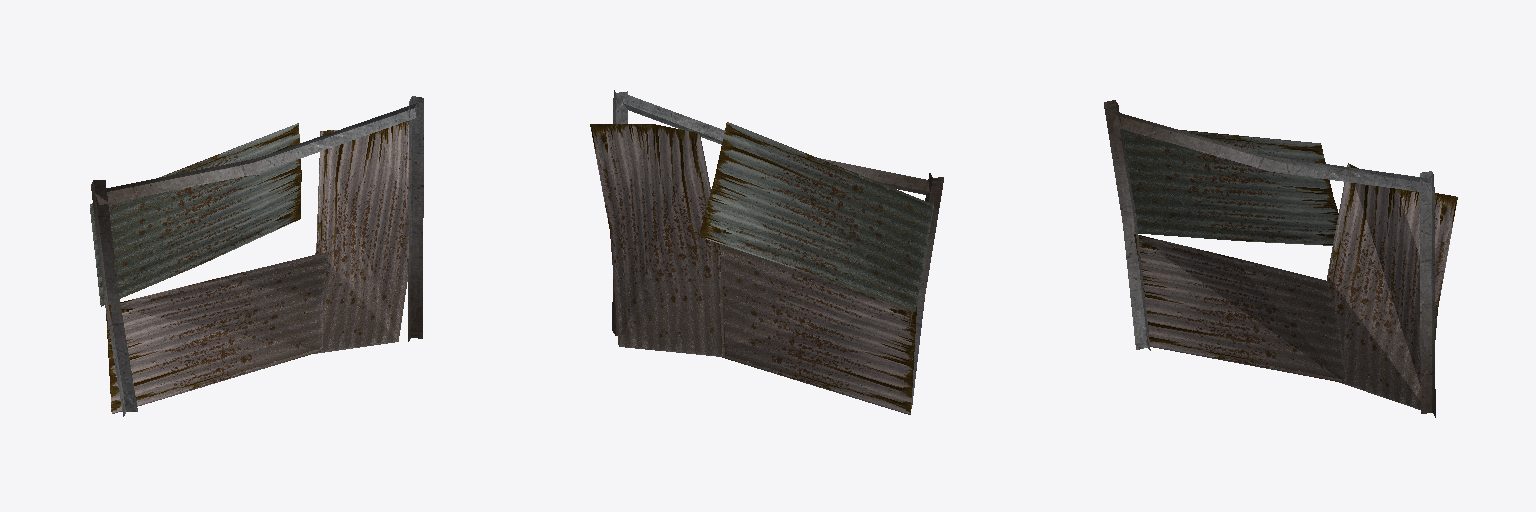
3 renders of one model, left to right at view 1: azimuth 30°, elevation 25°; view 2: azimuth 150°, elevation 25°; view 3: azimuth 330°, elevation 25°, orthographic.
Parts seen in each view (by area): view 1: Fence0; view 2: Fence0; view 3: Fence0.
Part boxes in pixels (left/top/right/bottom): Fence0: left=90, top=96, right=423, bottom=416; Fence0: left=590, top=90, right=943, bottom=414; Fence0: left=1104, top=100, right=1457, bottom=417.
Size of the model in its own units: 6.49 by 4.5 by 0.7953.
Materials: 1 (1 with a texture image).